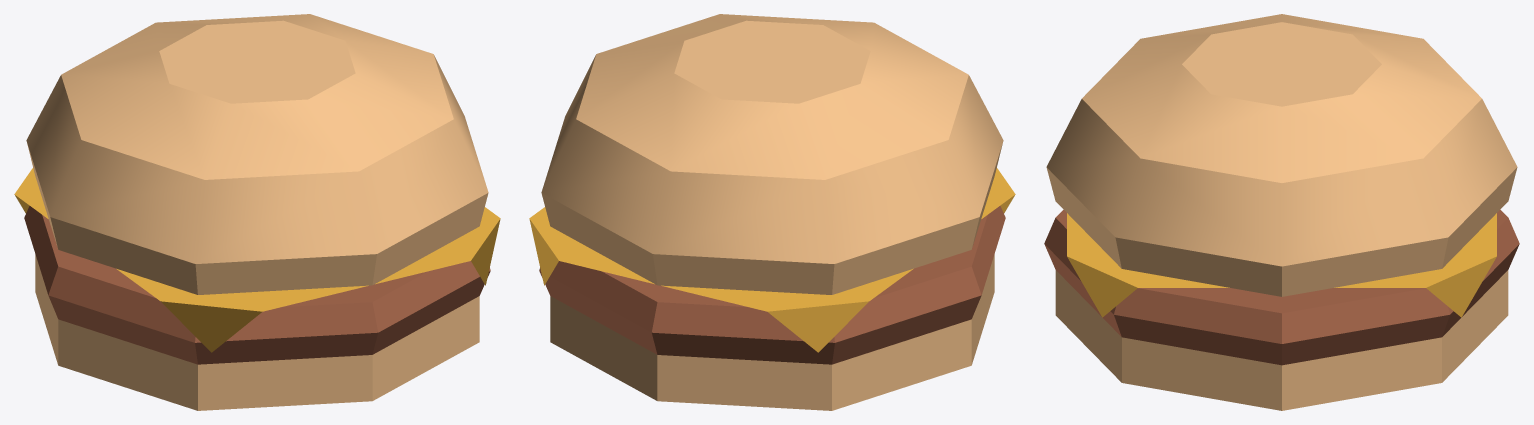
The model's file is burgerCheese.obj.
The picture shows the model from 3 angles, left to right: view 1: azimuth 30°, elevation 25°; view 2: azimuth 150°, elevation 25°; view 3: azimuth 270°, elevation 25°; orthographic projection.
Parts seen in each view (by area): view 1: bunTop, patty, bunBottom, cheese; view 2: bunTop, patty, bunBottom, cheese; view 3: bunTop, patty, bunBottom, cheese.
Part boxes in pixels (x1,y1,x2,y2): bunTop: (26,14,488,294); patty: (24,206,490,364); bunBottom: (35,254,479,410); cheese: (14,168,500,352); bunTop: (541,14,1003,294); patty: (539,206,1005,364); bunBottom: (550,254,994,410); cheese: (529,168,1015,352); bunTop: (1046,14,1517,296); patty: (1044,209,1519,365); bunBottom: (1055,270,1508,410); cheese: (1067,213,1496,317).
Bounding box in the file's own units: 0.378 × 0.22 × 0.378.
